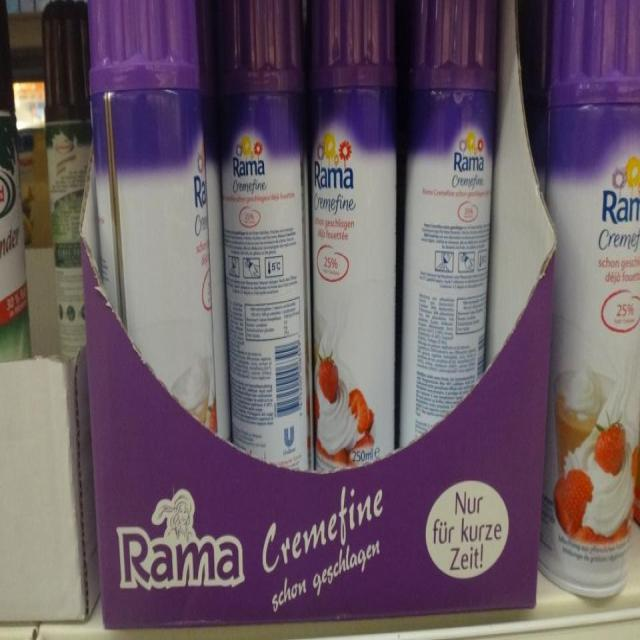Cream: (539, 0, 639, 596), (89, 0, 215, 429), (400, 0, 497, 446), (219, 0, 311, 469), (311, 0, 395, 471), (42, 0, 91, 359), (0, 0, 31, 361)
